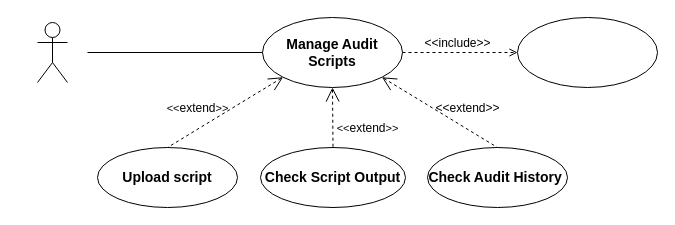
Some shapes in this 675 by 225 pixel diagram are drawn without their labels. The shapes that lost their labels are listed below. From the top down, each one's centre as x and y in pixels, then its label:
At (52,52): "IP Engineer".
At (587,52): "Authenticate".
